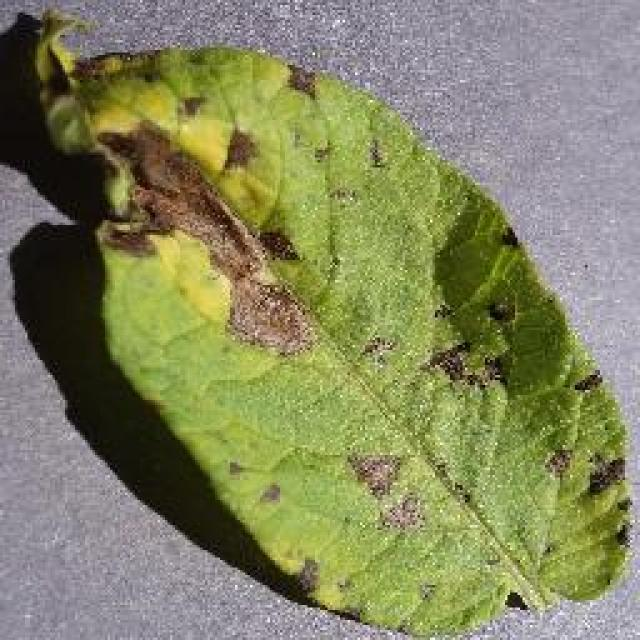early_blight: (18, 5, 638, 637)
